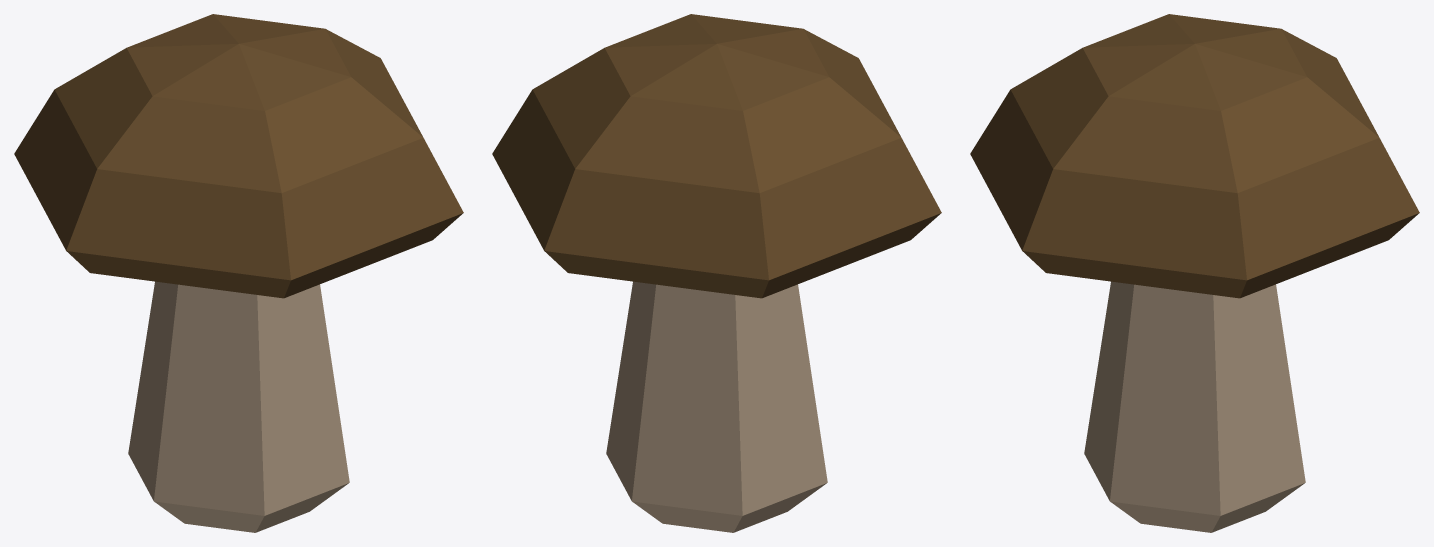
File: mushroom1.fbx
3 views of the same model, side by side, from view 1: azimuth 30°, elevation 25°; view 2: azimuth 150°, elevation 25°; view 3: azimuth 270°, elevation 25° (orthographic).
Visible parts, largest first — view 1: mushroom1; view 2: mushroom1; view 3: mushroom1.
Part boxes in pixels (x1,y1,x2,y2): mushroom1: (14,14,463,532); mushroom1: (492,14,941,532); mushroom1: (970,14,1419,532).
Bounding box in the file's own units: 10.99 × 12.12 × 10.77.
